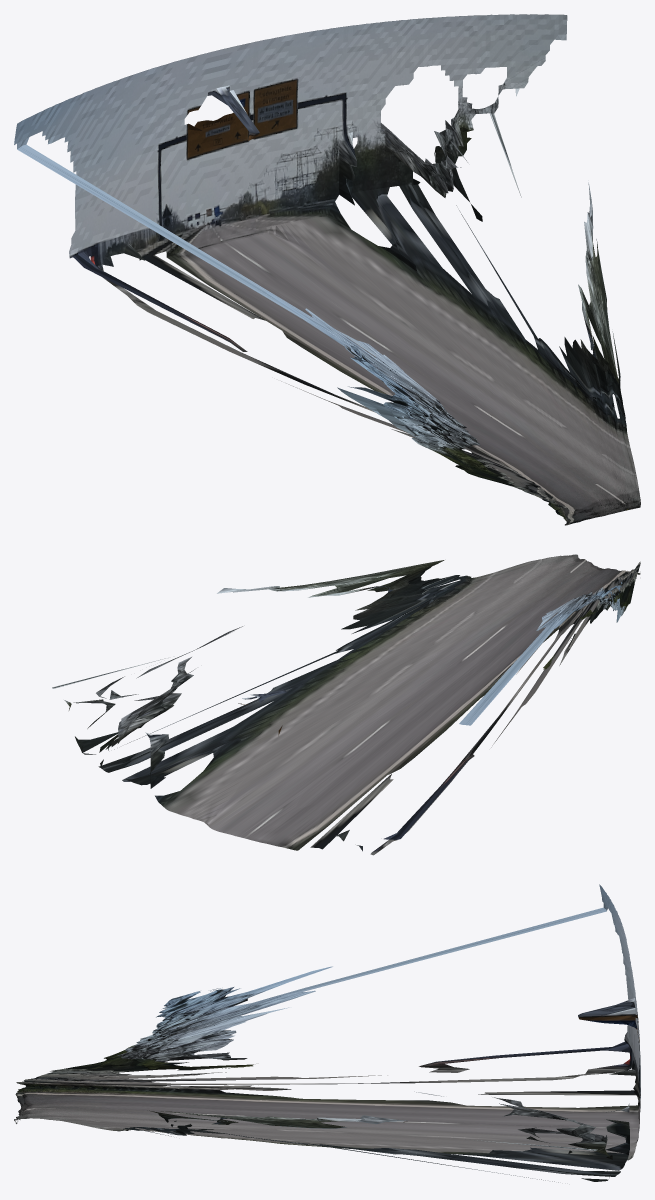
The picture shows the model from 3 angles, top to bottom: view 1: azimuth 30°, elevation 25°; view 2: azimuth 150°, elevation 25°; view 3: azimuth 270°, elevation 25°; orthographic projection. The views are drawn at different scales.
Visible parts, largest first — view 1: defaultobject; view 2: defaultobject; view 3: defaultobject.
Part boxes in pixels (x1,y1,x2,y2): defaultobject: (14,14,640,525); defaultobject: (52,554,640,855); defaultobject: (14,884,640,1182).
Bounding box in the file's own units: 34.76 × 12.59 × 44.56.
Materials: 1 (1 with a texture image).
